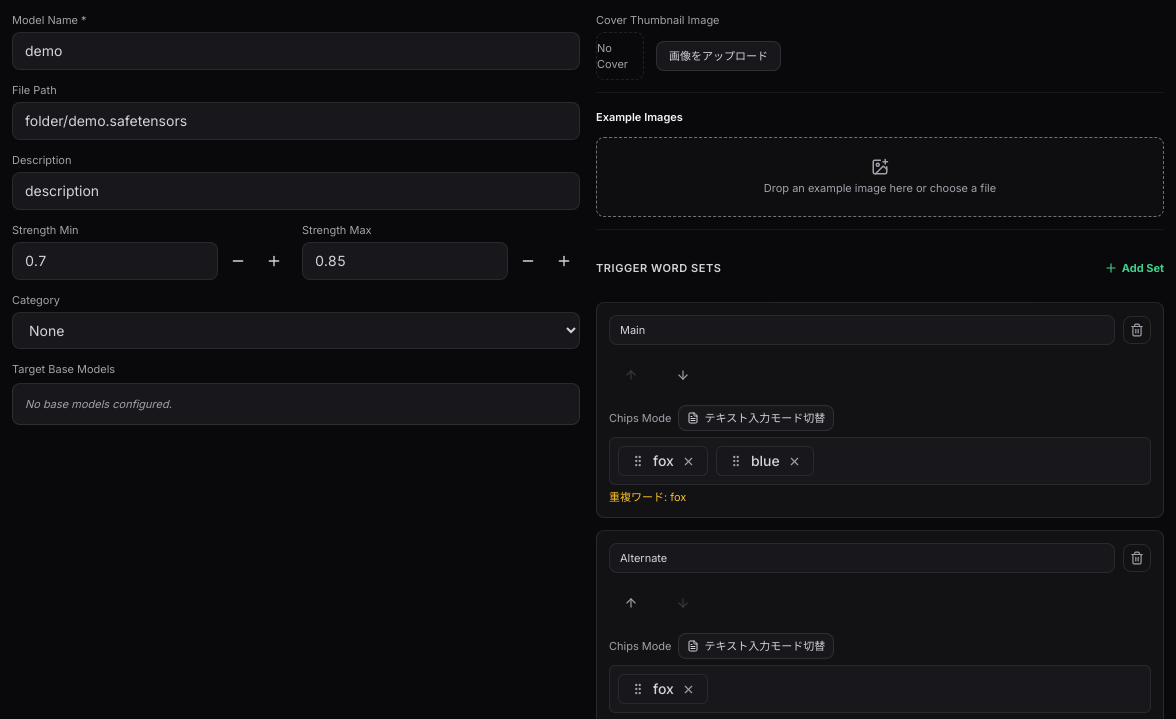
Test: LoraFormFields › steps recommended strengths by 0.05 and reports a reversed range
Click the button named "Increase Strength Min".
click(274, 261)  # box [258,249,290,273]
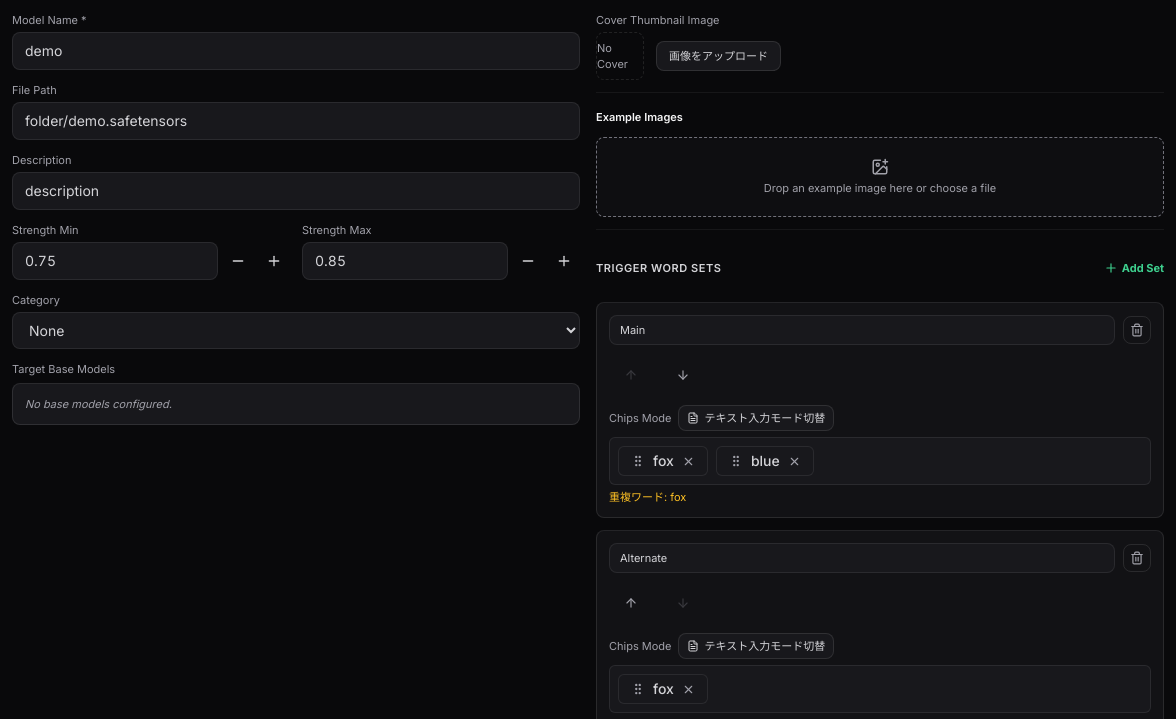
Click the button named "Decrease Strength Min".
click(238, 261)  # box [222,249,254,273]
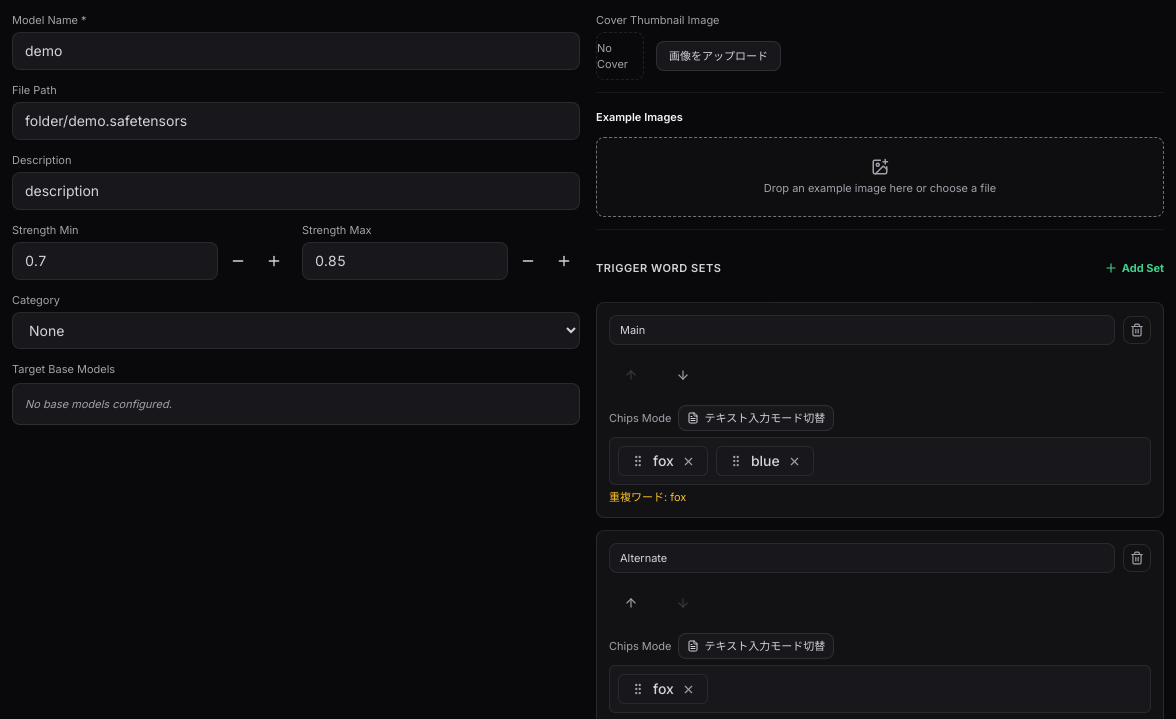
Click the button named "Increase Strength Max".
click(564, 261)  # box [548,249,580,273]
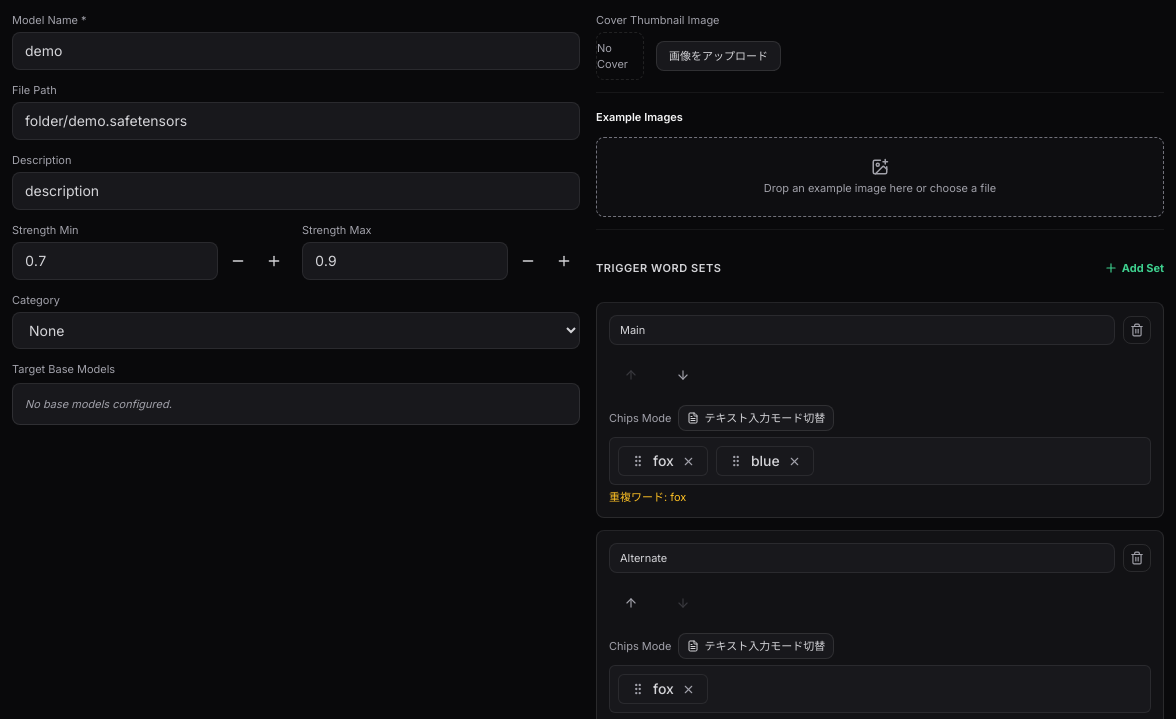
Click the button named "Decrease Strength Max".
click(528, 261)  # box [512,249,544,273]
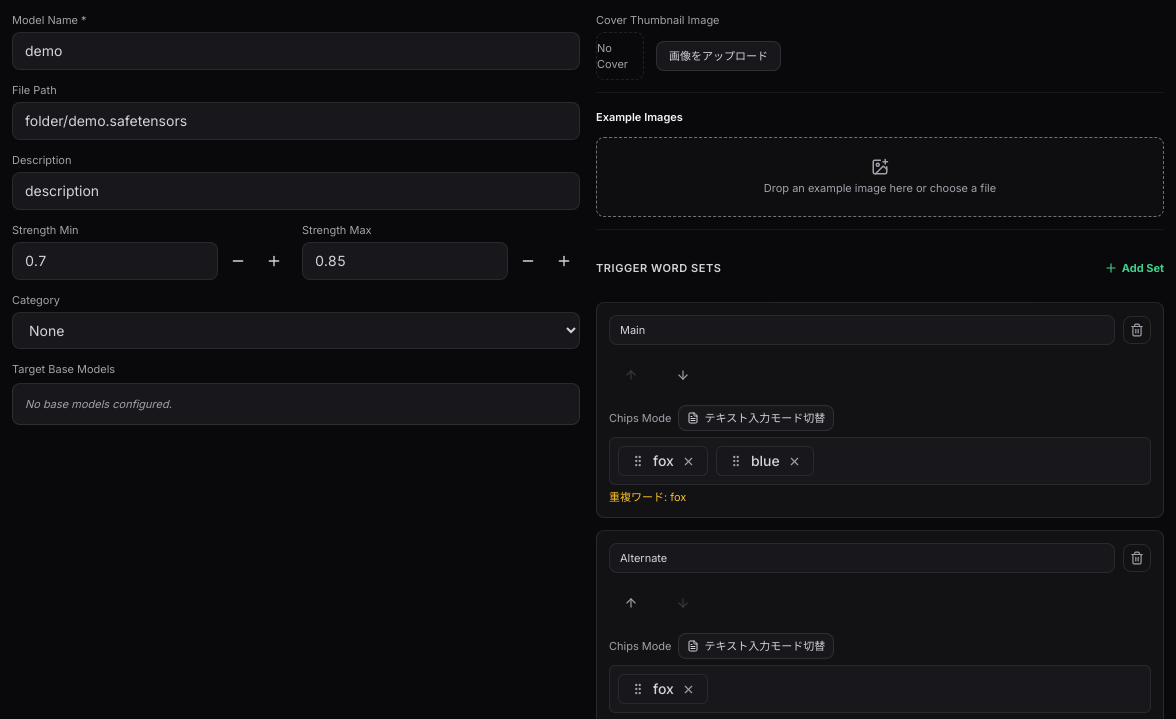
Replace the text in the number field with id "test-lora-strength-min" with "0.9" at (115, 261), box [12,242,218,280]
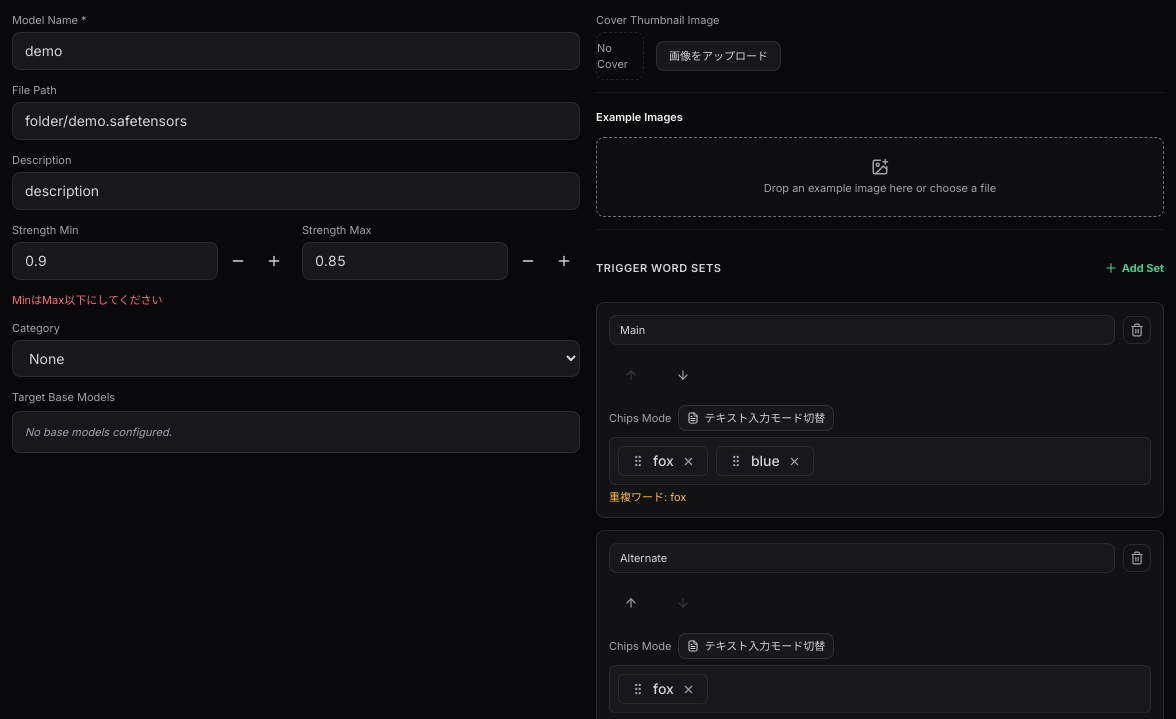
Now the message "MinはMax以下にしてください" is shown, box [12,293,163,307]
